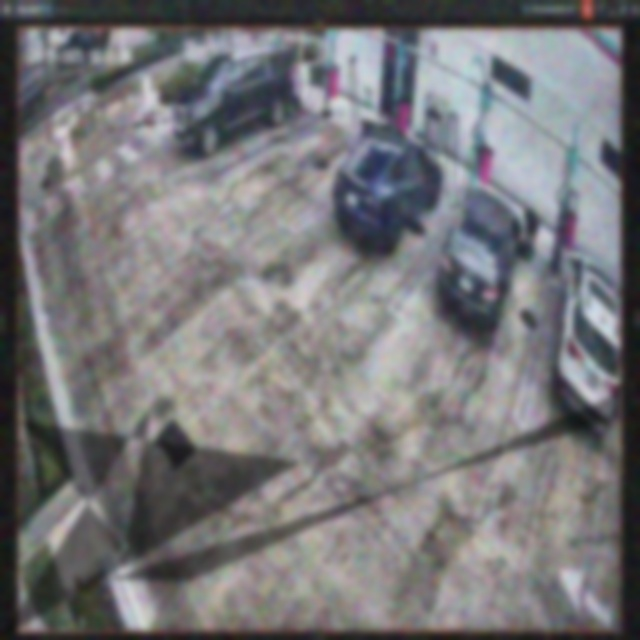Car: (335, 124, 441, 242), (438, 185, 522, 330)
